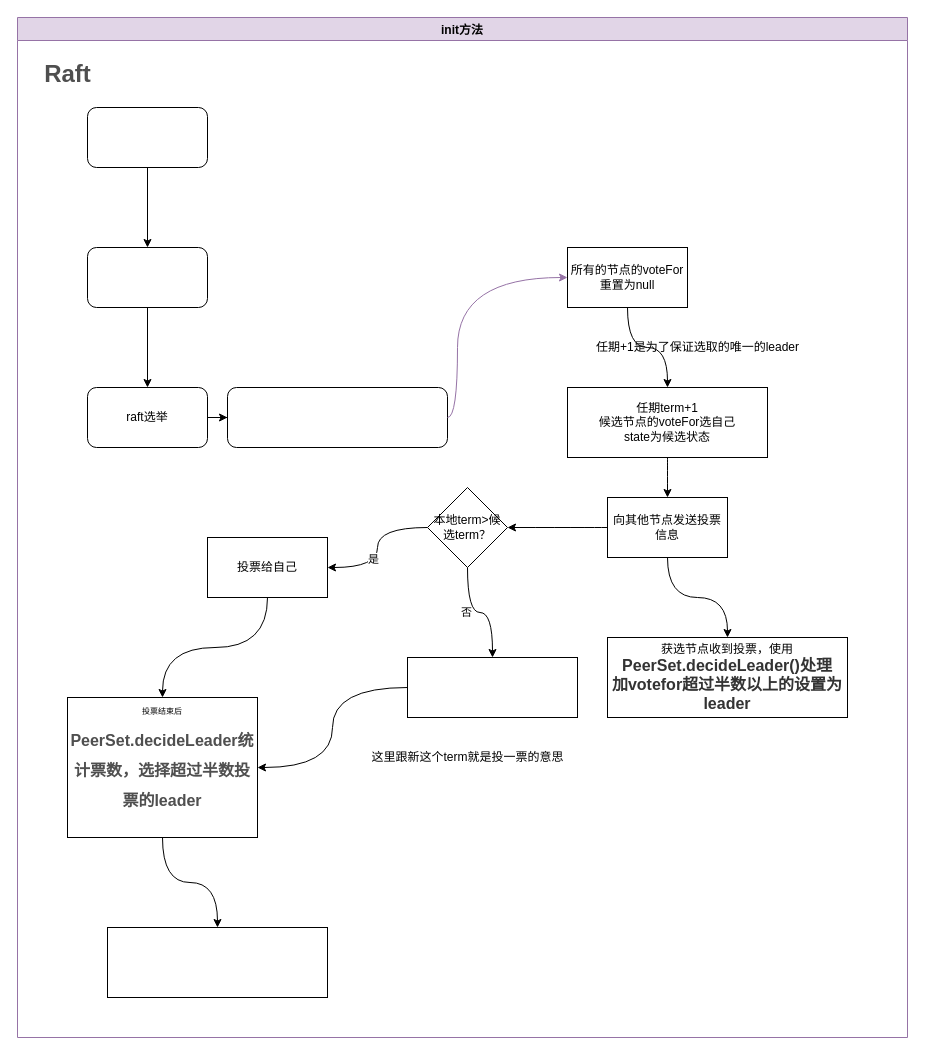
This 925x1055 diagram has some shape labels left out. The centre of each missing label's shape, as x and y in pixels:
"MasterElection.sendVote()进行投票" goes at [337,417].
"获取集群节点列表（集群or单机）" goes at [147,137].
"重置心跳 sendBeat() 发送心跳包" goes at [217,962].
"重置这个follower的超时时间， 投票给发送这个给予投票请求的候选人 同时跟新这个本地term。" goes at [492,687].
"集群数据恢复，从集群中的datum和term获取数据" goes at [147,277].
